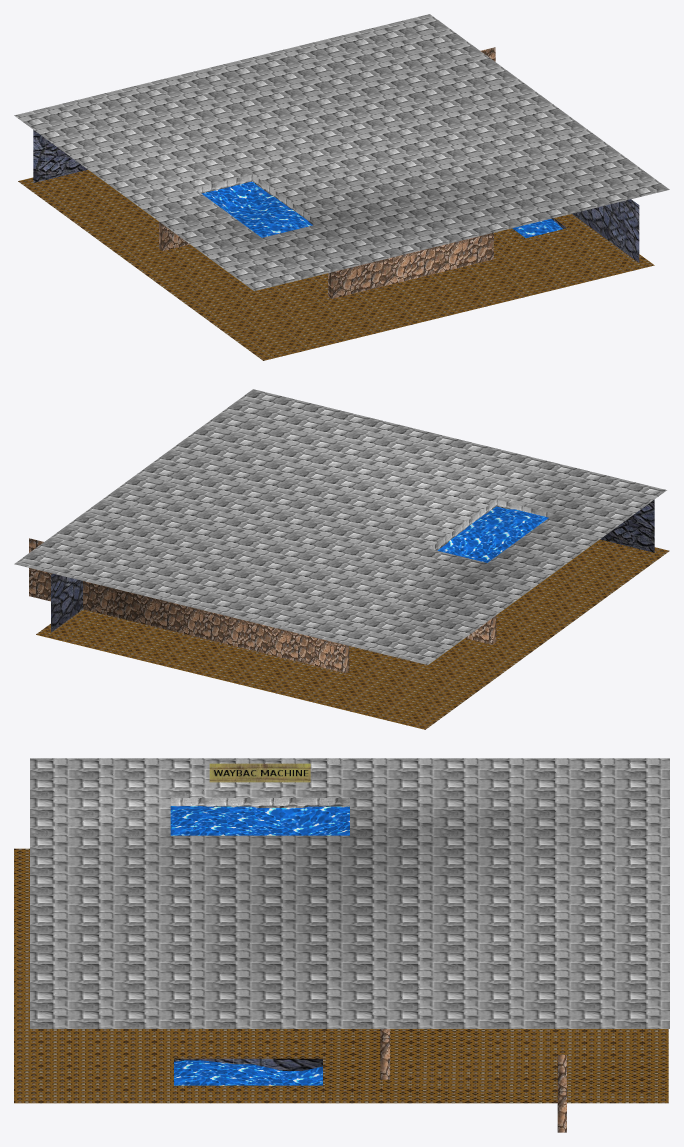
File: backRoom.glb
The picture shows the model from 3 angles, top to bottom: view 1: azimuth 30°, elevation 25°; view 2: azimuth 150°, elevation 25°; view 3: azimuth 270°, elevation 25°; orthographic projection. The views are drawn at different scales.
Parts seen in each view (by area): view 1: castelwall.png__, xx-18.jpg__, xx-45.jpg__, xx-61.jpg__, backeffect.jpg__; view 2: castelwall.png__, xx-18.jpg__, xx-45.jpg__, backeffect.jpg__, xx-61.jpg__; view 3: castelwall.png__, xx-18.jpg__, backeffect.jpg__, back-text.jpg__, xx-45.jpg__, xx-61.jpg__.
Part boxes in pixels (box(x1,y1,x2,y2)): castelwall.png__: box(14, 14, 669, 290); xx-18.jpg__: box(18, 170, 654, 360); xx-45.jpg__: box(159, 47, 495, 298); xx-61.jpg__: box(33, 130, 639, 262); backeffect.jpg__: box(202, 181, 562, 238); castelwall.png__: box(14, 389, 666, 664); xx-18.jpg__: box(36, 539, 669, 729); xx-45.jpg__: box(29, 538, 496, 673); backeffect.jpg__: box(437, 506, 548, 562); xx-61.jpg__: box(51, 499, 654, 632); castelwall.png__: box(30, 758, 669, 1028); xx-18.jpg__: box(14, 848, 668, 1103); backeffect.jpg__: box(170, 806, 349, 1085); back-text.jpg__: box(209, 763, 310, 782); xx-45.jpg__: box(380, 1029, 566, 1132); xx-61.jpg__: box(174, 1058, 322, 1070).
Bounding box in the file's own units: 225 × 51.01 × 219.
Materials: 7 (7 with a texture image).
